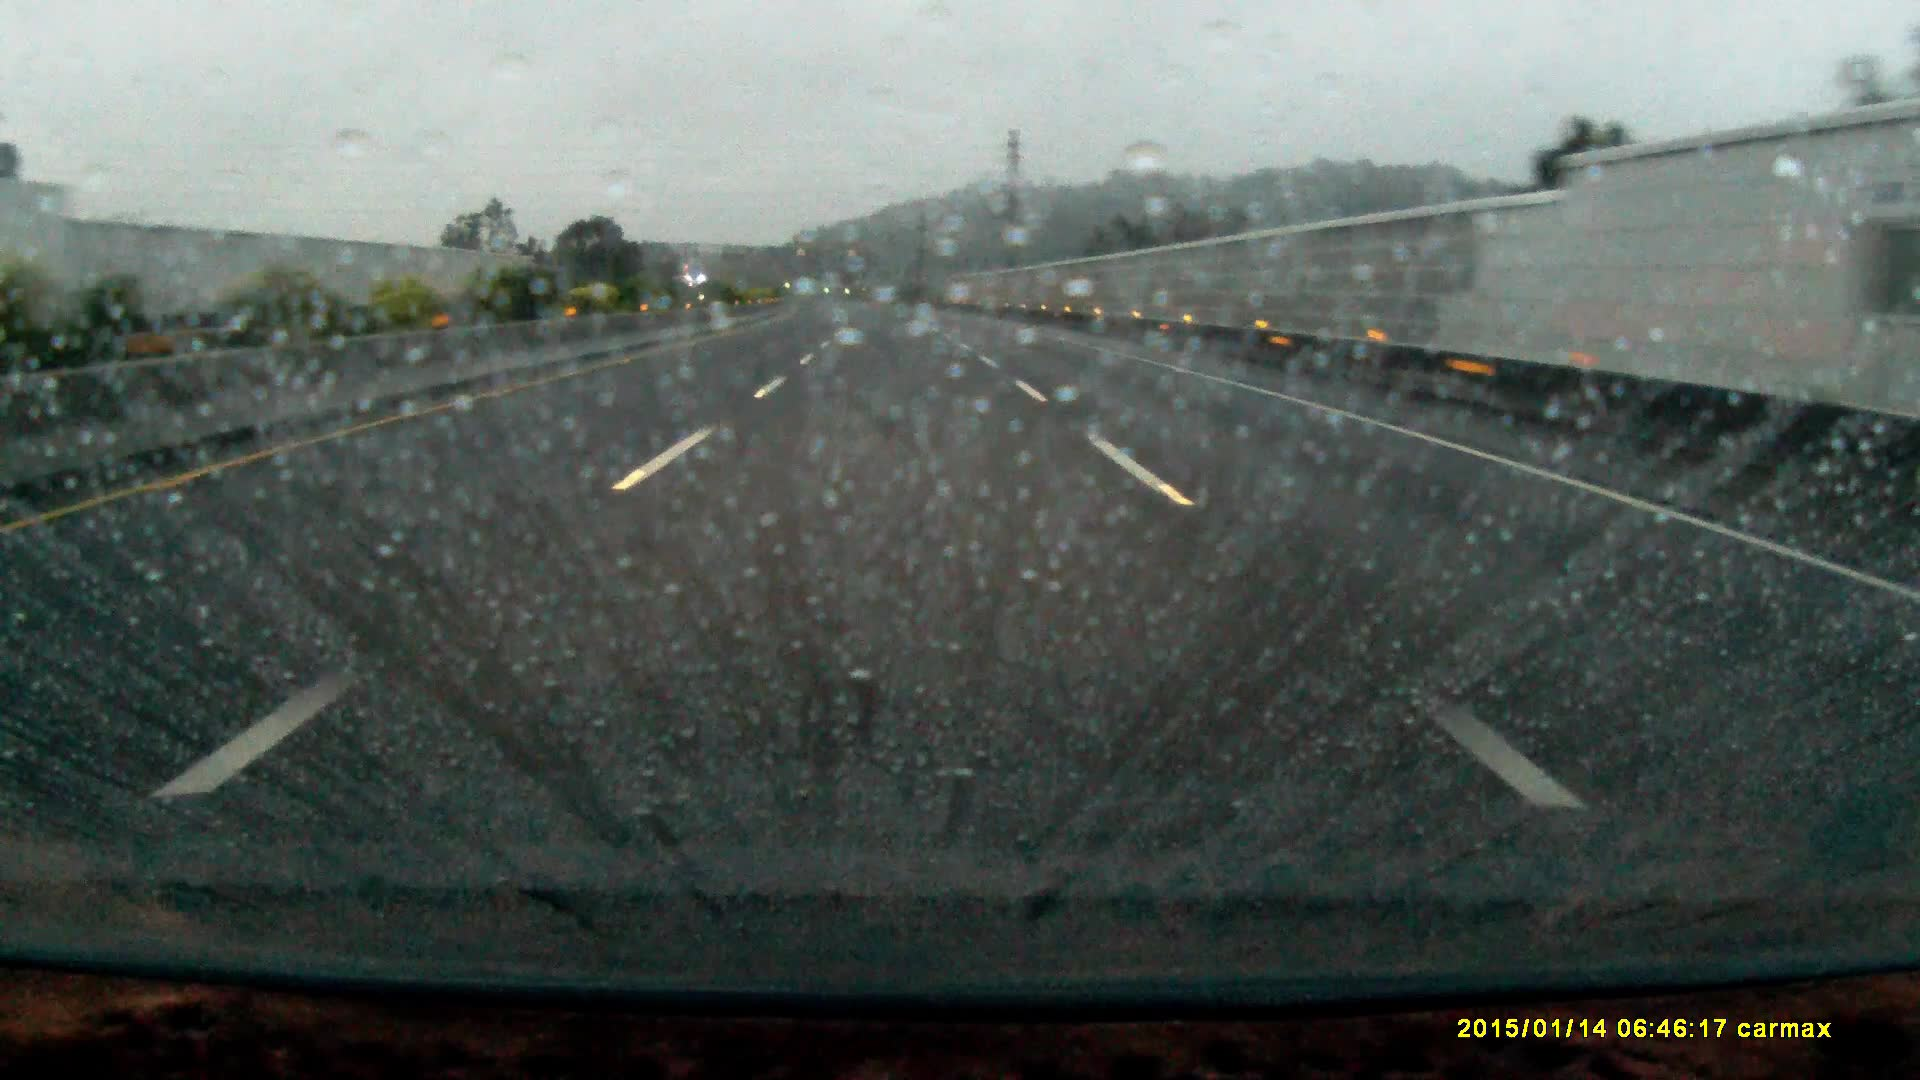vehicle: (1, 175, 73, 357)
